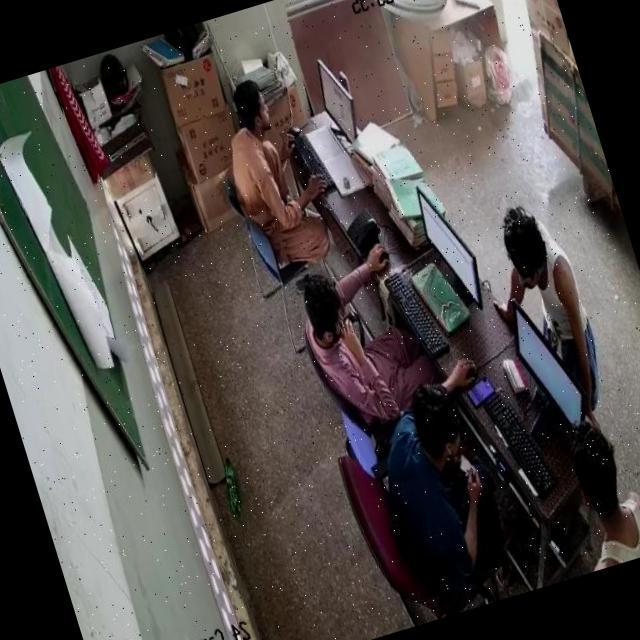person: (356, 372, 512, 622), (494, 189, 605, 399), (212, 77, 318, 272), (289, 249, 415, 406), (545, 427, 640, 574)
